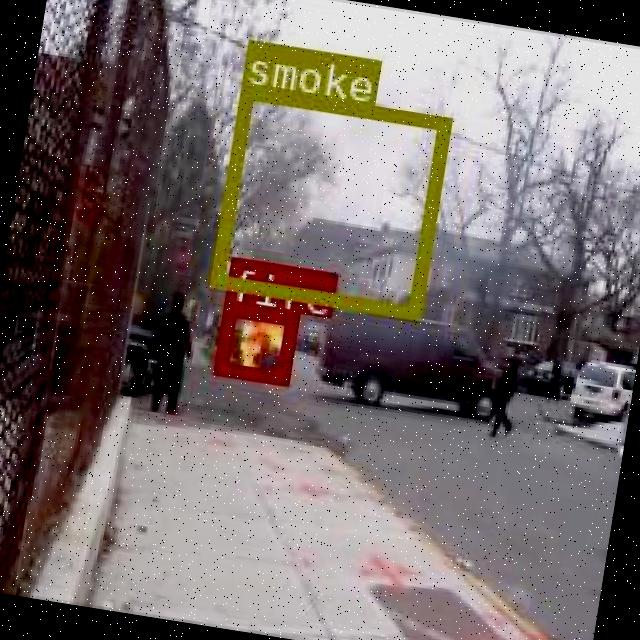fire: (212, 301, 297, 384)
smoke: (208, 82, 450, 317)
